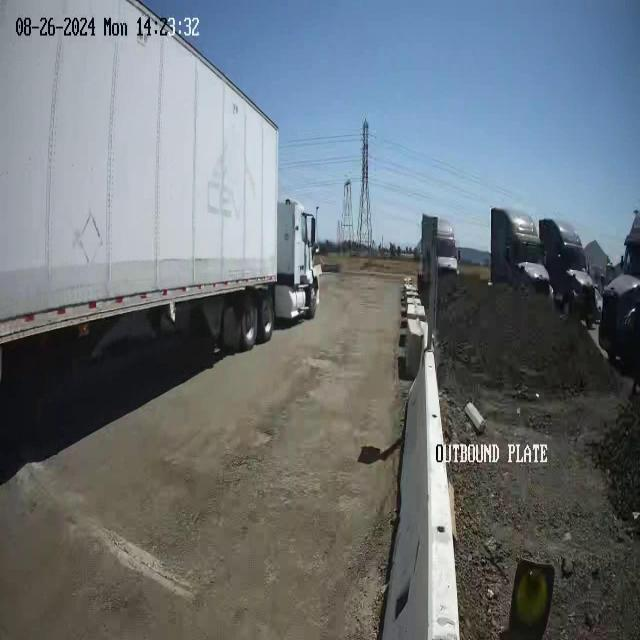TRUCK_OUT: (0, 0, 279, 348)
